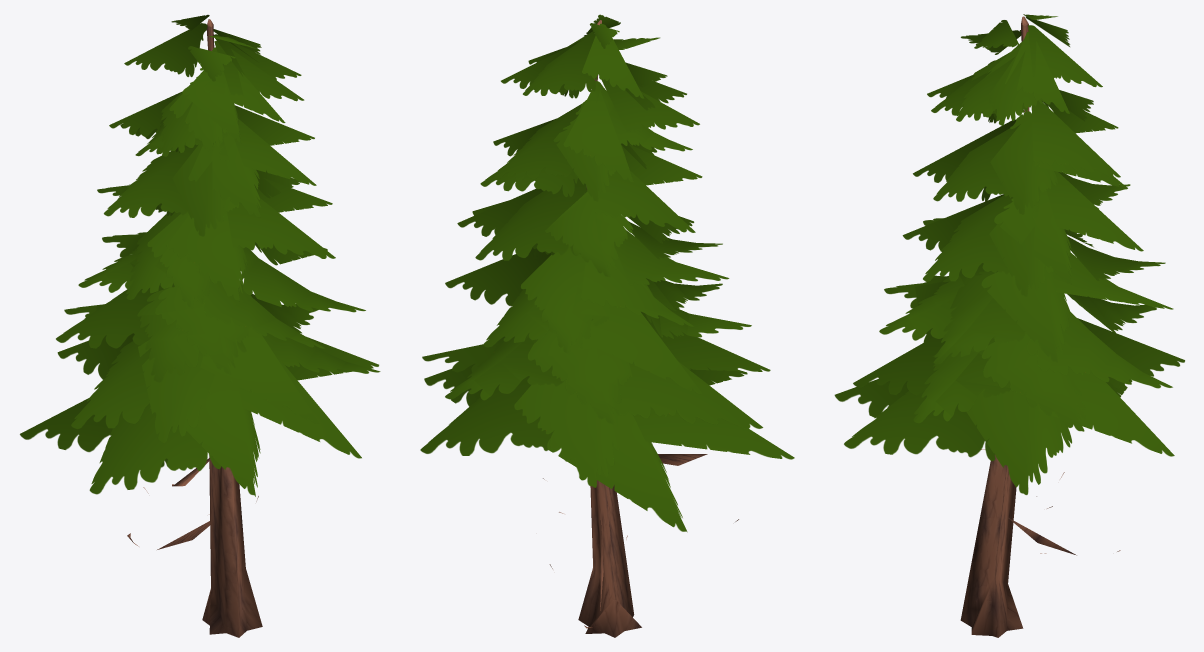
The model's file is spruce-2-far.glb.
3 views of the same model, side by side, from view 1: azimuth 30°, elevation 25°; view 2: azimuth 150°, elevation 25°; view 3: azimuth 270°, elevation 25° (orthographic). The views are drawn at different scales.
Visible parts, largest first — view 1: Pine_4; view 2: Pine_4; view 3: Pine_4.
Boxes of the visible parts, left/top/right/bottom form: Pine_4: left=20, top=14, right=380, bottom=637; Pine_4: left=420, top=14, right=794, bottom=637; Pine_4: left=834, top=14, right=1184, bottom=637.
Bounding box in the file's own units: 5.8 × 9.95 × 5.37.
2 materials, 2 textured.
